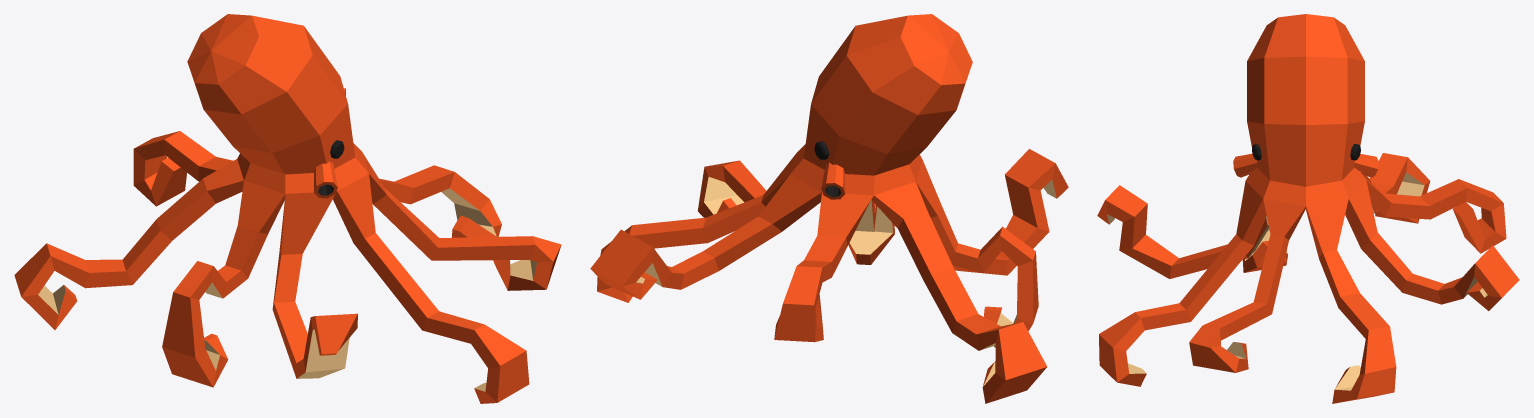
Rendered from Octopus(1).glb.
3 renders of one model, left to right at view 1: azimuth 30°, elevation 25°; view 2: azimuth 150°, elevation 25°; view 3: azimuth 270°, elevation 25°, orthographic. The views are drawn at different scales.
Visible parts, largest first — view 1: Octopus_01_Circle.007; view 2: Octopus_01_Circle.007; view 3: Octopus_01_Circle.007.
Part boxes in pixels (left/top/right/bottom): Octopus_01_Circle.007: left=14, top=14, right=561, bottom=403; Octopus_01_Circle.007: left=590, top=14, right=1068, bottom=403; Octopus_01_Circle.007: left=1097, top=14, right=1519, bottom=403.
Size of the model in its own units: 12.03 by 8.69 by 10.71.
